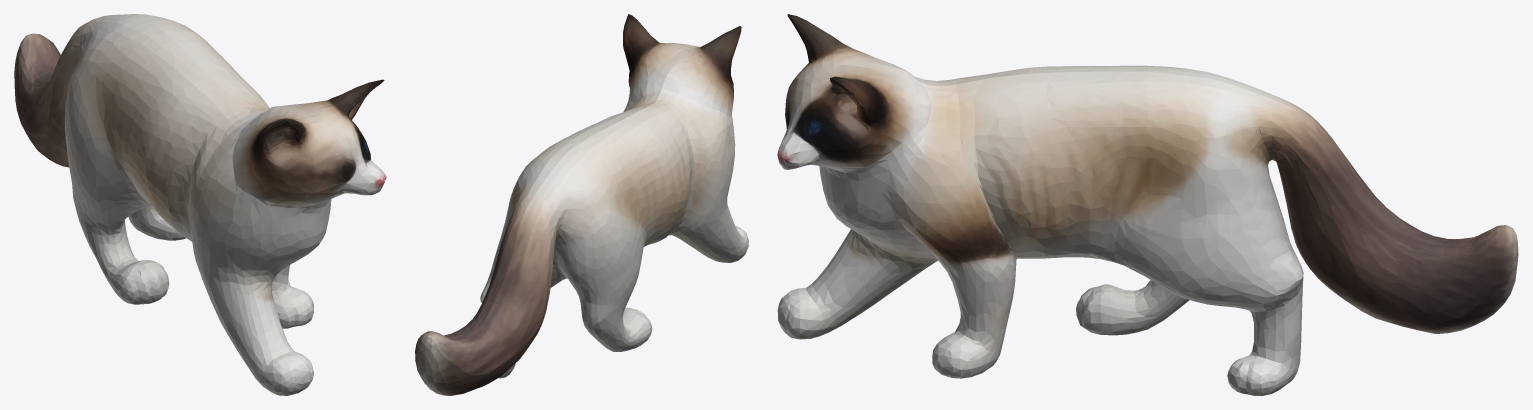
3 renders of one model, left to right at view 1: azimuth 30°, elevation 25°; view 2: azimuth 150°, elevation 25°; view 3: azimuth 270°, elevation 25°, orthographic. The views are drawn at different scales.
Parts seen in each view (by area): view 1: geometry_0; view 2: geometry_0; view 3: geometry_0.
Part boxes in pixels (x1,y1,x2,y2): geometry_0: [14, 14, 386, 395]; geometry_0: [415, 14, 748, 395]; geometry_0: [777, 14, 1518, 395].
Bounding box in the file's own units: 0.2746 × 0.4856 × 0.9994.
Materials: 1 (1 with a texture image).
